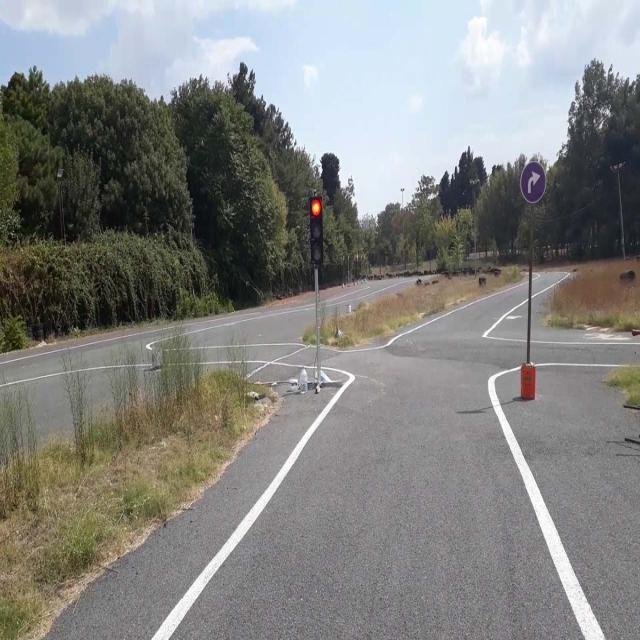kirmizi: (310, 197, 324, 263)
sag: (520, 160, 546, 203)
